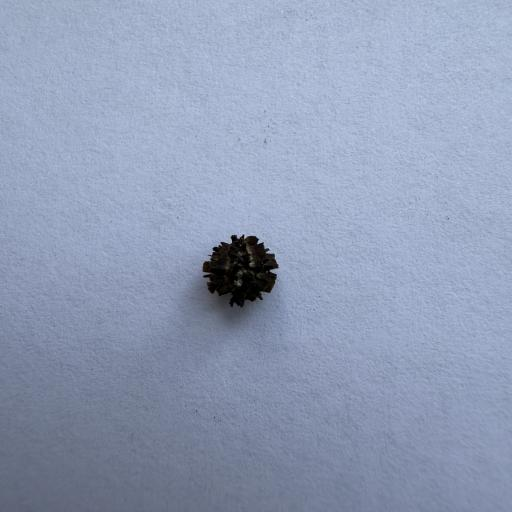papaya_seed: (196, 208, 296, 320)
